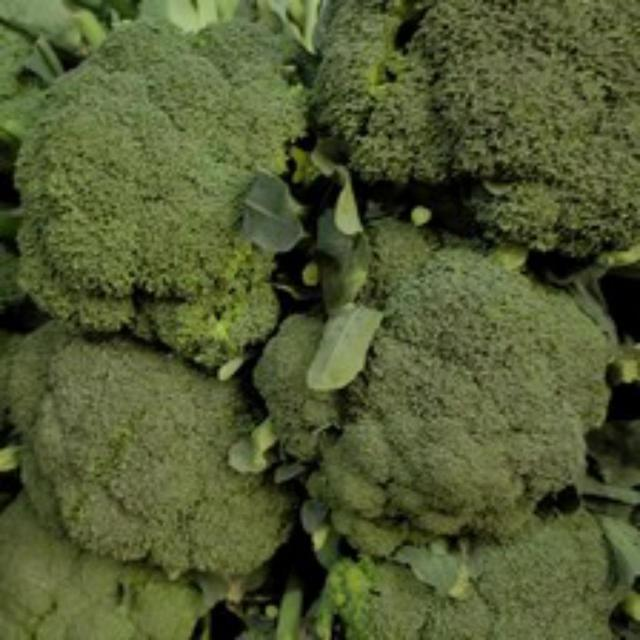broccoli: (13, 9, 311, 362)
